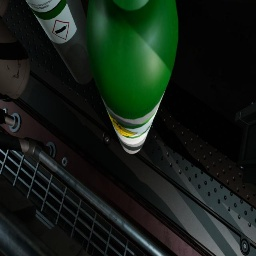0: (86, 0, 178, 154), (26, 0, 93, 84)
NitrogenTank ,: (0, 18, 30, 102), (0, 0, 10, 20)
